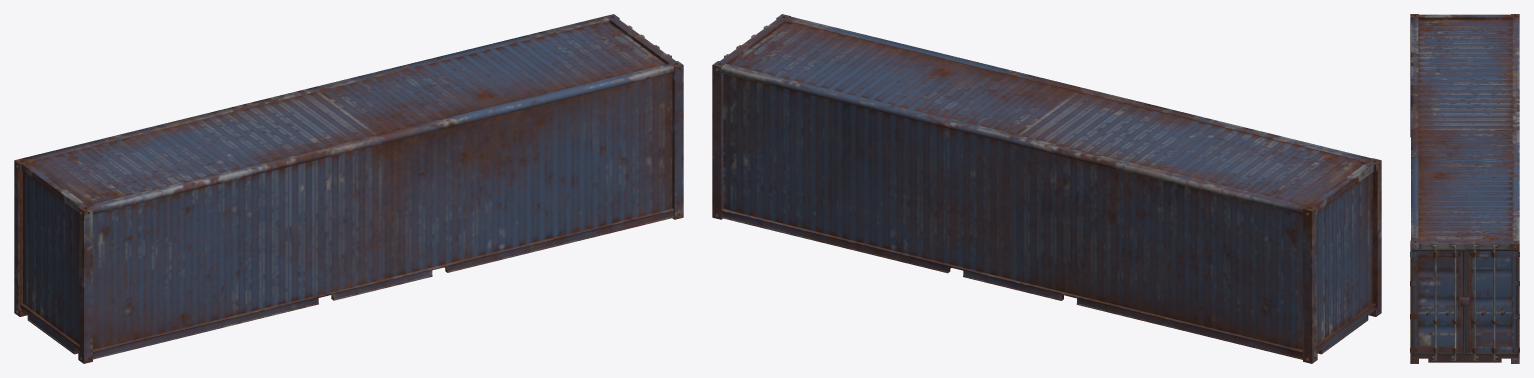
File: container_40_orange.glb
3 renders of one model, left to right at view 1: azimuth 30°, elevation 25°; view 2: azimuth 150°, elevation 25°; view 3: azimuth 270°, elevation 25°, orthographic. The views are drawn at different scales.
Parts seen in each view (by area): view 1: container_40_orange; view 2: container_40_orange; view 3: container_40_orange.
Boxes of the visible parts, box(x1,y1,x2,y2) form: container_40_orange: box(14, 14, 683, 363); container_40_orange: box(712, 14, 1381, 363); container_40_orange: box(1410, 14, 1519, 363).
Bounding box in the file's own units: 12.19 × 2.95 × 2.45.
Materials: 1 (1 with a texture image).
